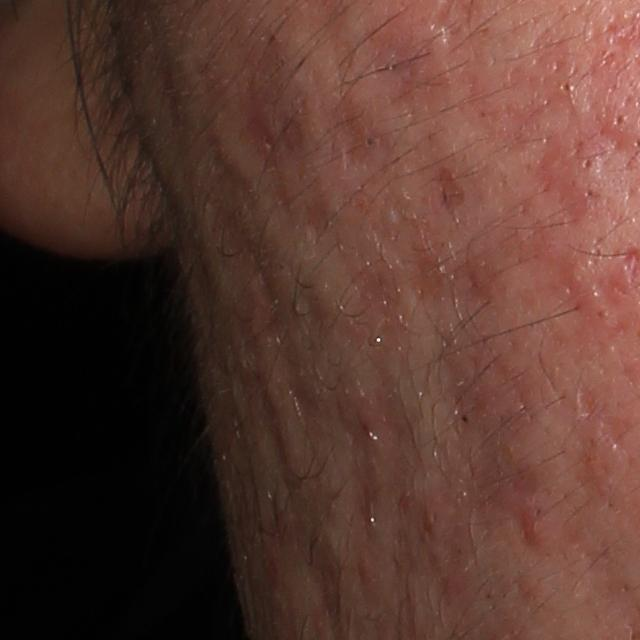comedo: (557, 78, 579, 97), (611, 111, 628, 129)
papule: (538, 136, 612, 205), (513, 508, 548, 548)
